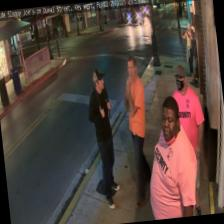person: (139, 94, 202, 220), (167, 62, 214, 216), (119, 54, 155, 207), (84, 68, 120, 209)
